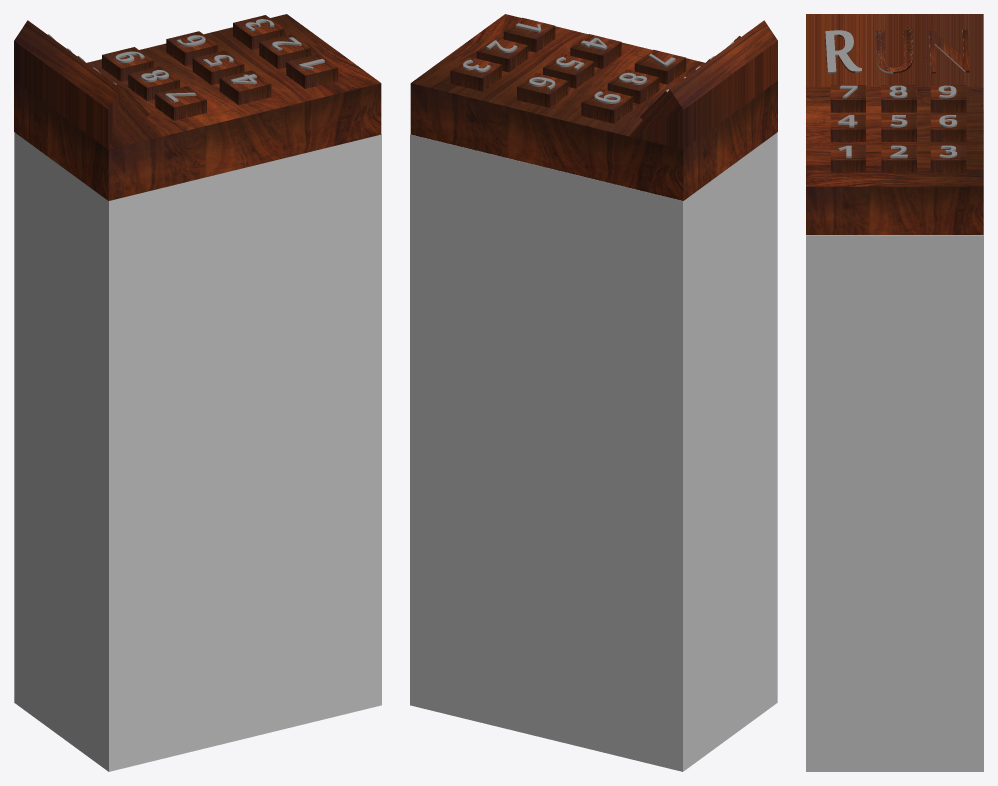
File: 密碼鎖.FBX
3 views of the same model, side by side, from view 1: azimuth 30°, elevation 25°; view 2: azimuth 150°, elevation 25°; view 3: azimuth 270°, elevation 25° (orthographic). The views are drawn at different scales.
Visible parts, largest first — view 1: stand, body, boxNum1, boxNum7, boxNum4, boxNum5, boxNum2, boxNum3, boxNum6, boxNum8, BoxNum9; view 2: stand, body, boxNum3, boxNum6, BoxNum9, boxNum1, boxNum7, boxNum2, boxNum4, boxNum5, boxNum8; view 3: stand, body, boxNum1, boxNum7, boxNum3, BoxNum9, R(Gold), boxNum6, boxNum4, boxNum2, boxNum5, boxNum8 (+2 smaller).
Part boxes in pixels (x1,y1,x2,y2): stand: (14,132,381,771); body: (14,14,381,200); boxNum1: (286,54,337,88); boxNum7: (155,86,206,120); boxNum4: (219,70,271,104); boxNum5: (192,50,244,85); boxNum2: (259,34,310,69); boxNum3: (233,15,284,49); boxNum6: (166,31,217,65); boxNum8: (128,66,179,100); BoxNum9: (102,47,153,81); stand: (410,132,777,771); body: (410,14,777,200); boxNum3: (450,57,501,91); boxNum6: (517,73,568,107); BoxNum9: (581,88,632,123); boxNum1: (503,17,555,52); boxNum7: (634,49,686,84); boxNum2: (476,37,528,72); boxNum4: (570,34,621,68); boxNum5: (543,53,594,88); boxNum8: (607,69,659,104); stand: (806,110,983,771); body: (806,14,983,234); boxNum1: (830,145,865,172); boxNum7: (830,85,865,112); boxNum3: (930,145,966,172); BoxNum9: (930,85,966,112); R(Gold): (825,30,861,73); boxNum6: (930,114,966,141); boxNum4: (830,114,865,141); boxNum2: (881,145,916,172); boxNum5: (881,114,916,141); boxNum8: (881,85,916,112).
Bounding box in the file's own units: 50.1 × 119 × 30.05.
Materials: 2 (1 with a texture image).
